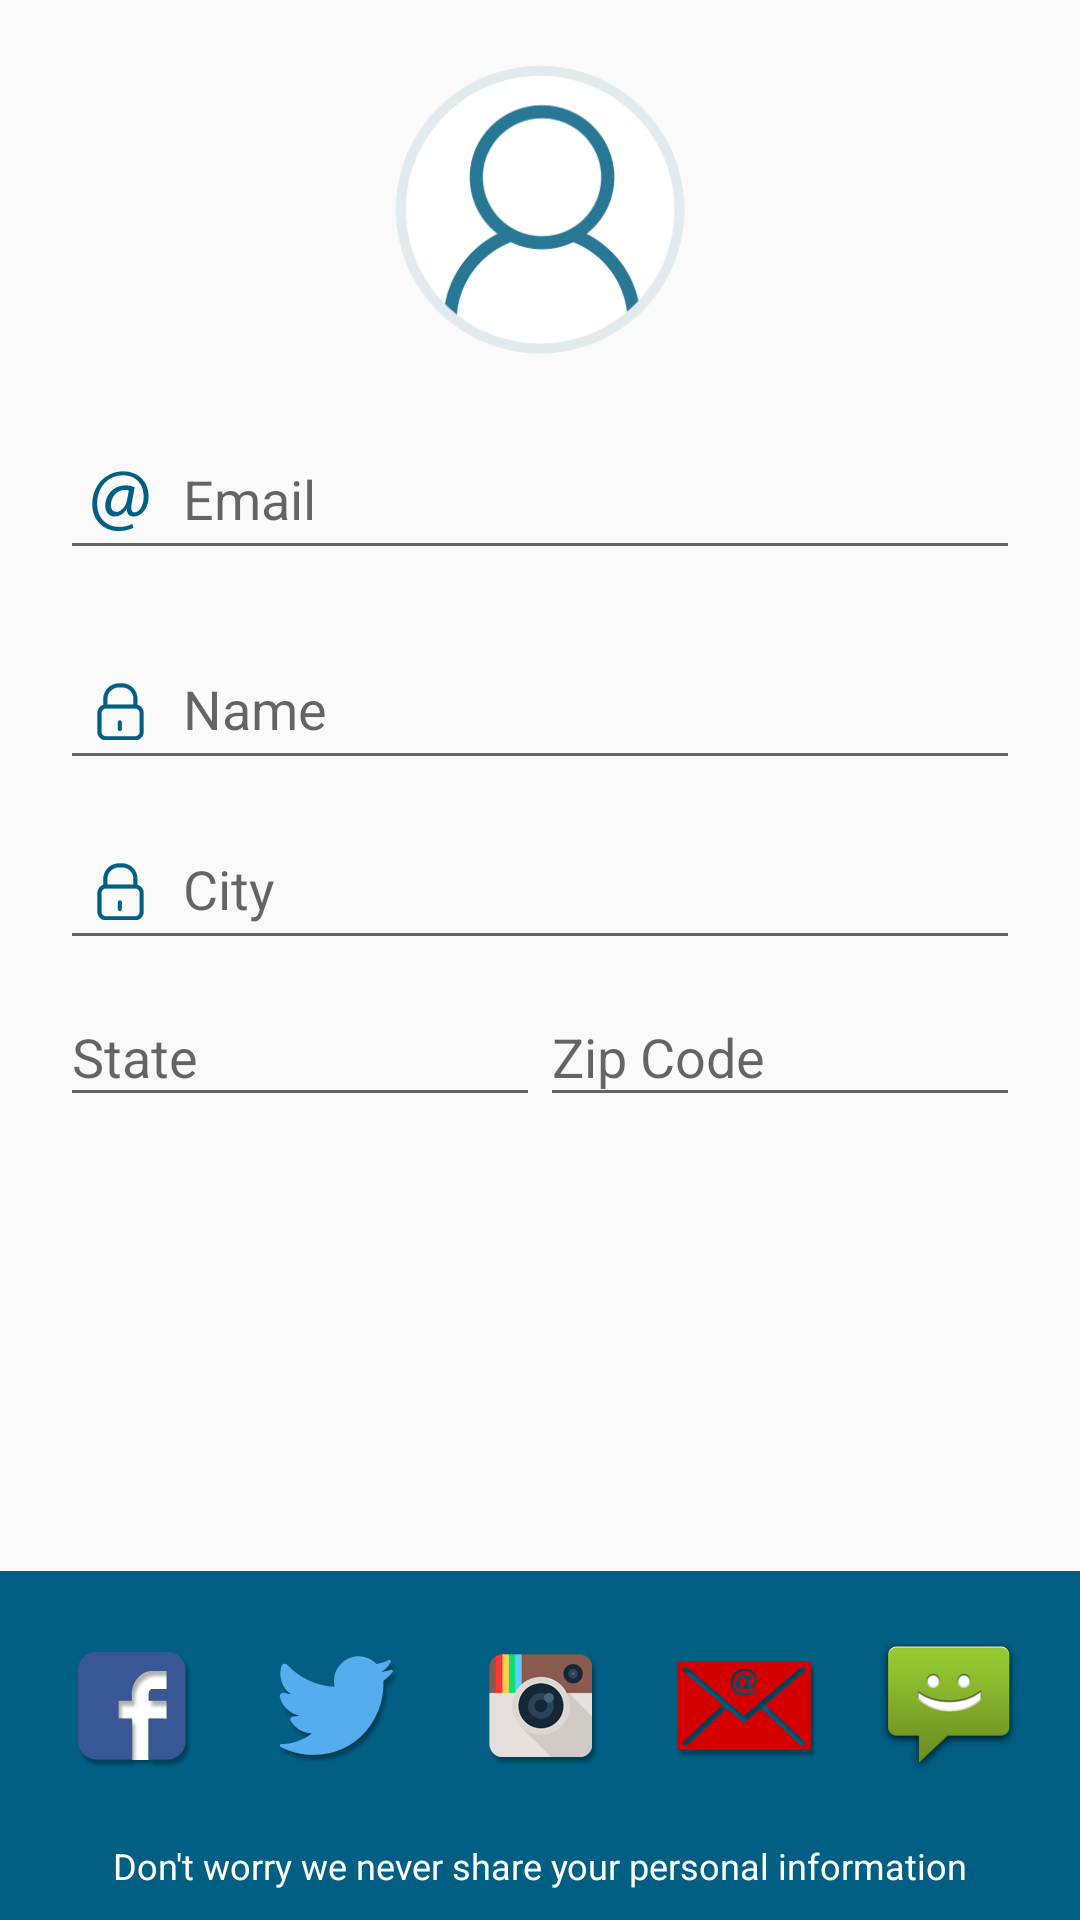

Icon bounding boxes for this 1080 × 1920 phone screenshot, format (x1, y1, x2, y2):
email: (677, 1662, 813, 1755)
profile pic: (397, 66, 684, 353)
text message: (885, 1646, 1012, 1764)
